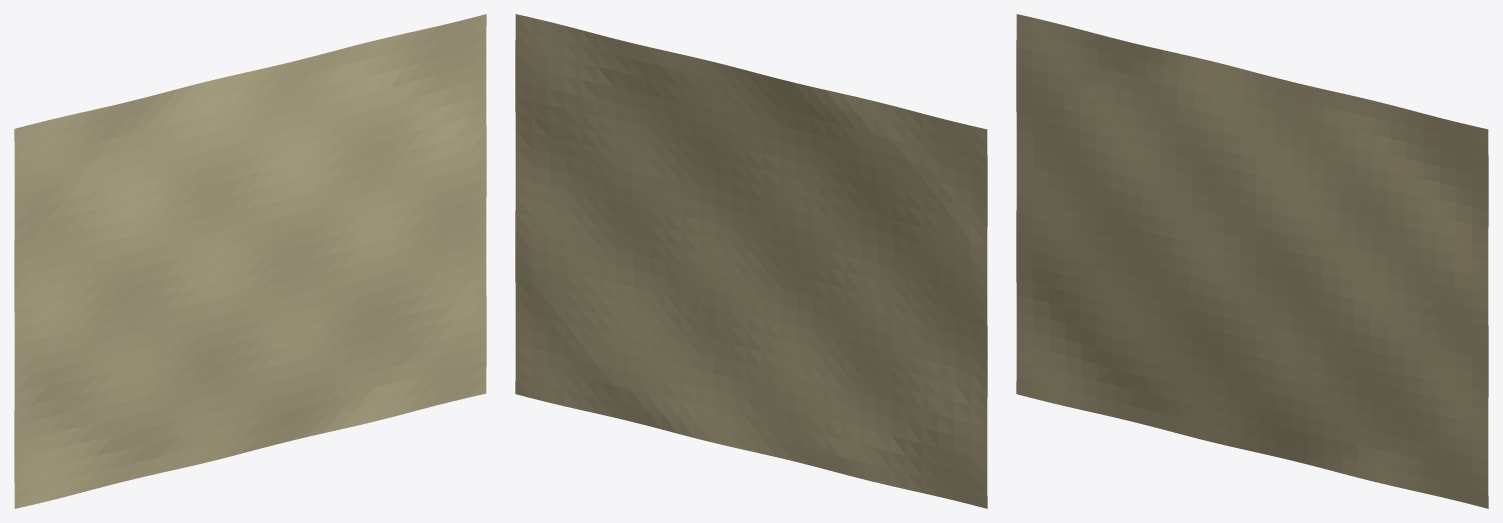
File: dranmar_hemostatic_patch.glb
3 views of the same model, side by side, from view 1: azimuth 30°, elevation 25°; view 2: azimuth 150°, elevation 25°; view 3: azimuth 330°, elevation 25° (orthographic).
Visible parts, largest first — view 1: Patch; view 2: Patch; view 3: Patch.
Boxes of the visible parts, box(x1,y1,x2,y2) form: Patch: box(14, 14, 486, 508); Patch: box(515, 14, 987, 508); Patch: box(1016, 14, 1488, 508).
Size of the model in its own units: 0.026 by 0.02 by 0.000574.
